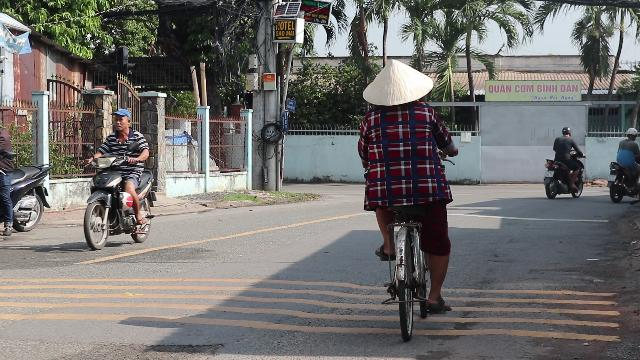motorcyclist: (81, 107, 159, 250)
nohelmet: (111, 108, 131, 132)
